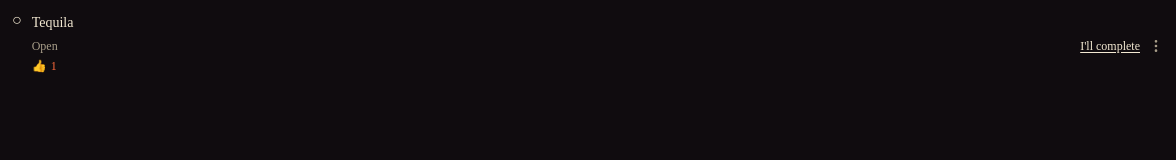
Scenario: <ShoppingItemCard /> — row social affordances (P2-T5) › like toggle rolls back optimistic state on failure
Click the button named "Like" at (44, 66), box x1=32 y1=58 x2=57 y2=74
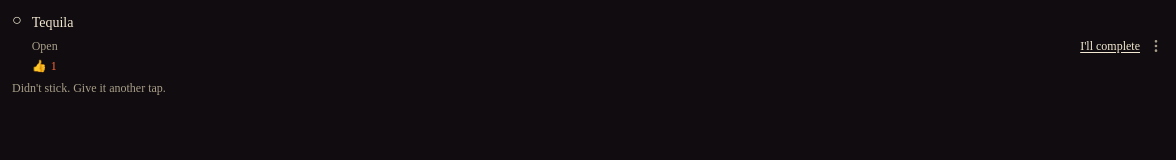
Result: the message reads "Didn't stick. Give it another tap." at x1=12 y1=81 x2=166 y2=95
